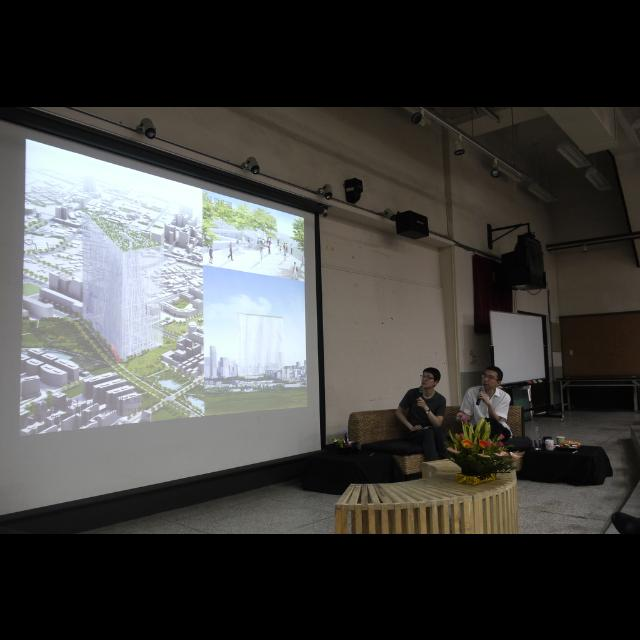Flower: (463, 439, 473, 449), (478, 439, 488, 449), (490, 439, 498, 446), (497, 434, 505, 440), (458, 432, 464, 438), (462, 417, 466, 423), (499, 441, 503, 447)
